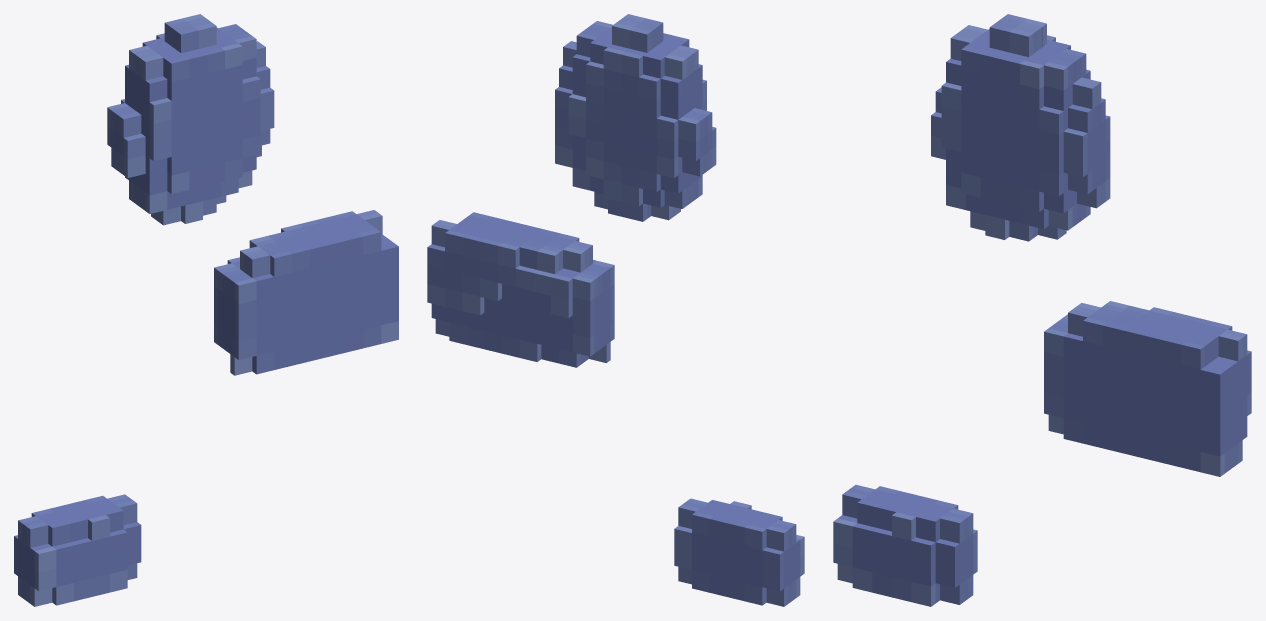
File: unet.glb
The picture shows the model from 3 angles, left to right: view 1: azimuth 30°, elevation 25°; view 2: azimuth 150°, elevation 25°; view 3: azimuth 330°, elevation 25°; orthographic projection. The views are drawn at different scales.
Parts seen in each view (by area): view 1: world; view 2: world; view 3: world.
Part boxes in pixels (left/top/right/bottom): world: left=14, top=14, right=398, bottom=606; world: left=427, top=14, right=804, bottom=606; world: left=833, top=14, right=1251, bottom=606.
Size of the model in its own units: 3.12 by 4.53 by 0.5.
